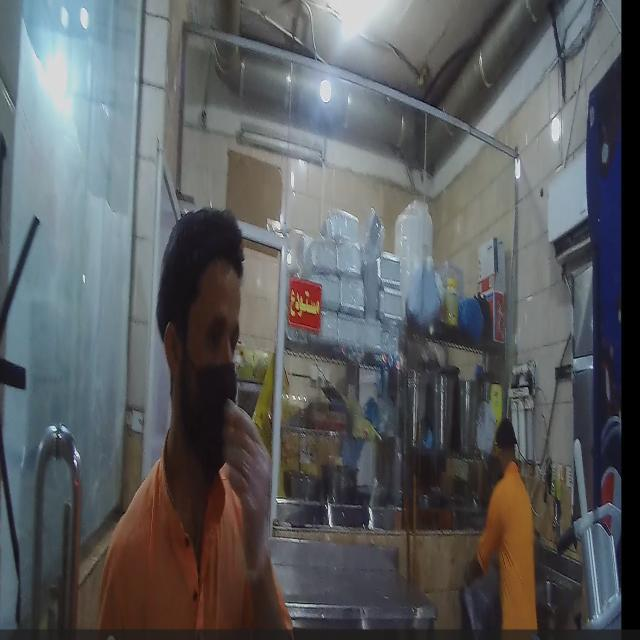face_mask: (162, 266, 242, 475)
